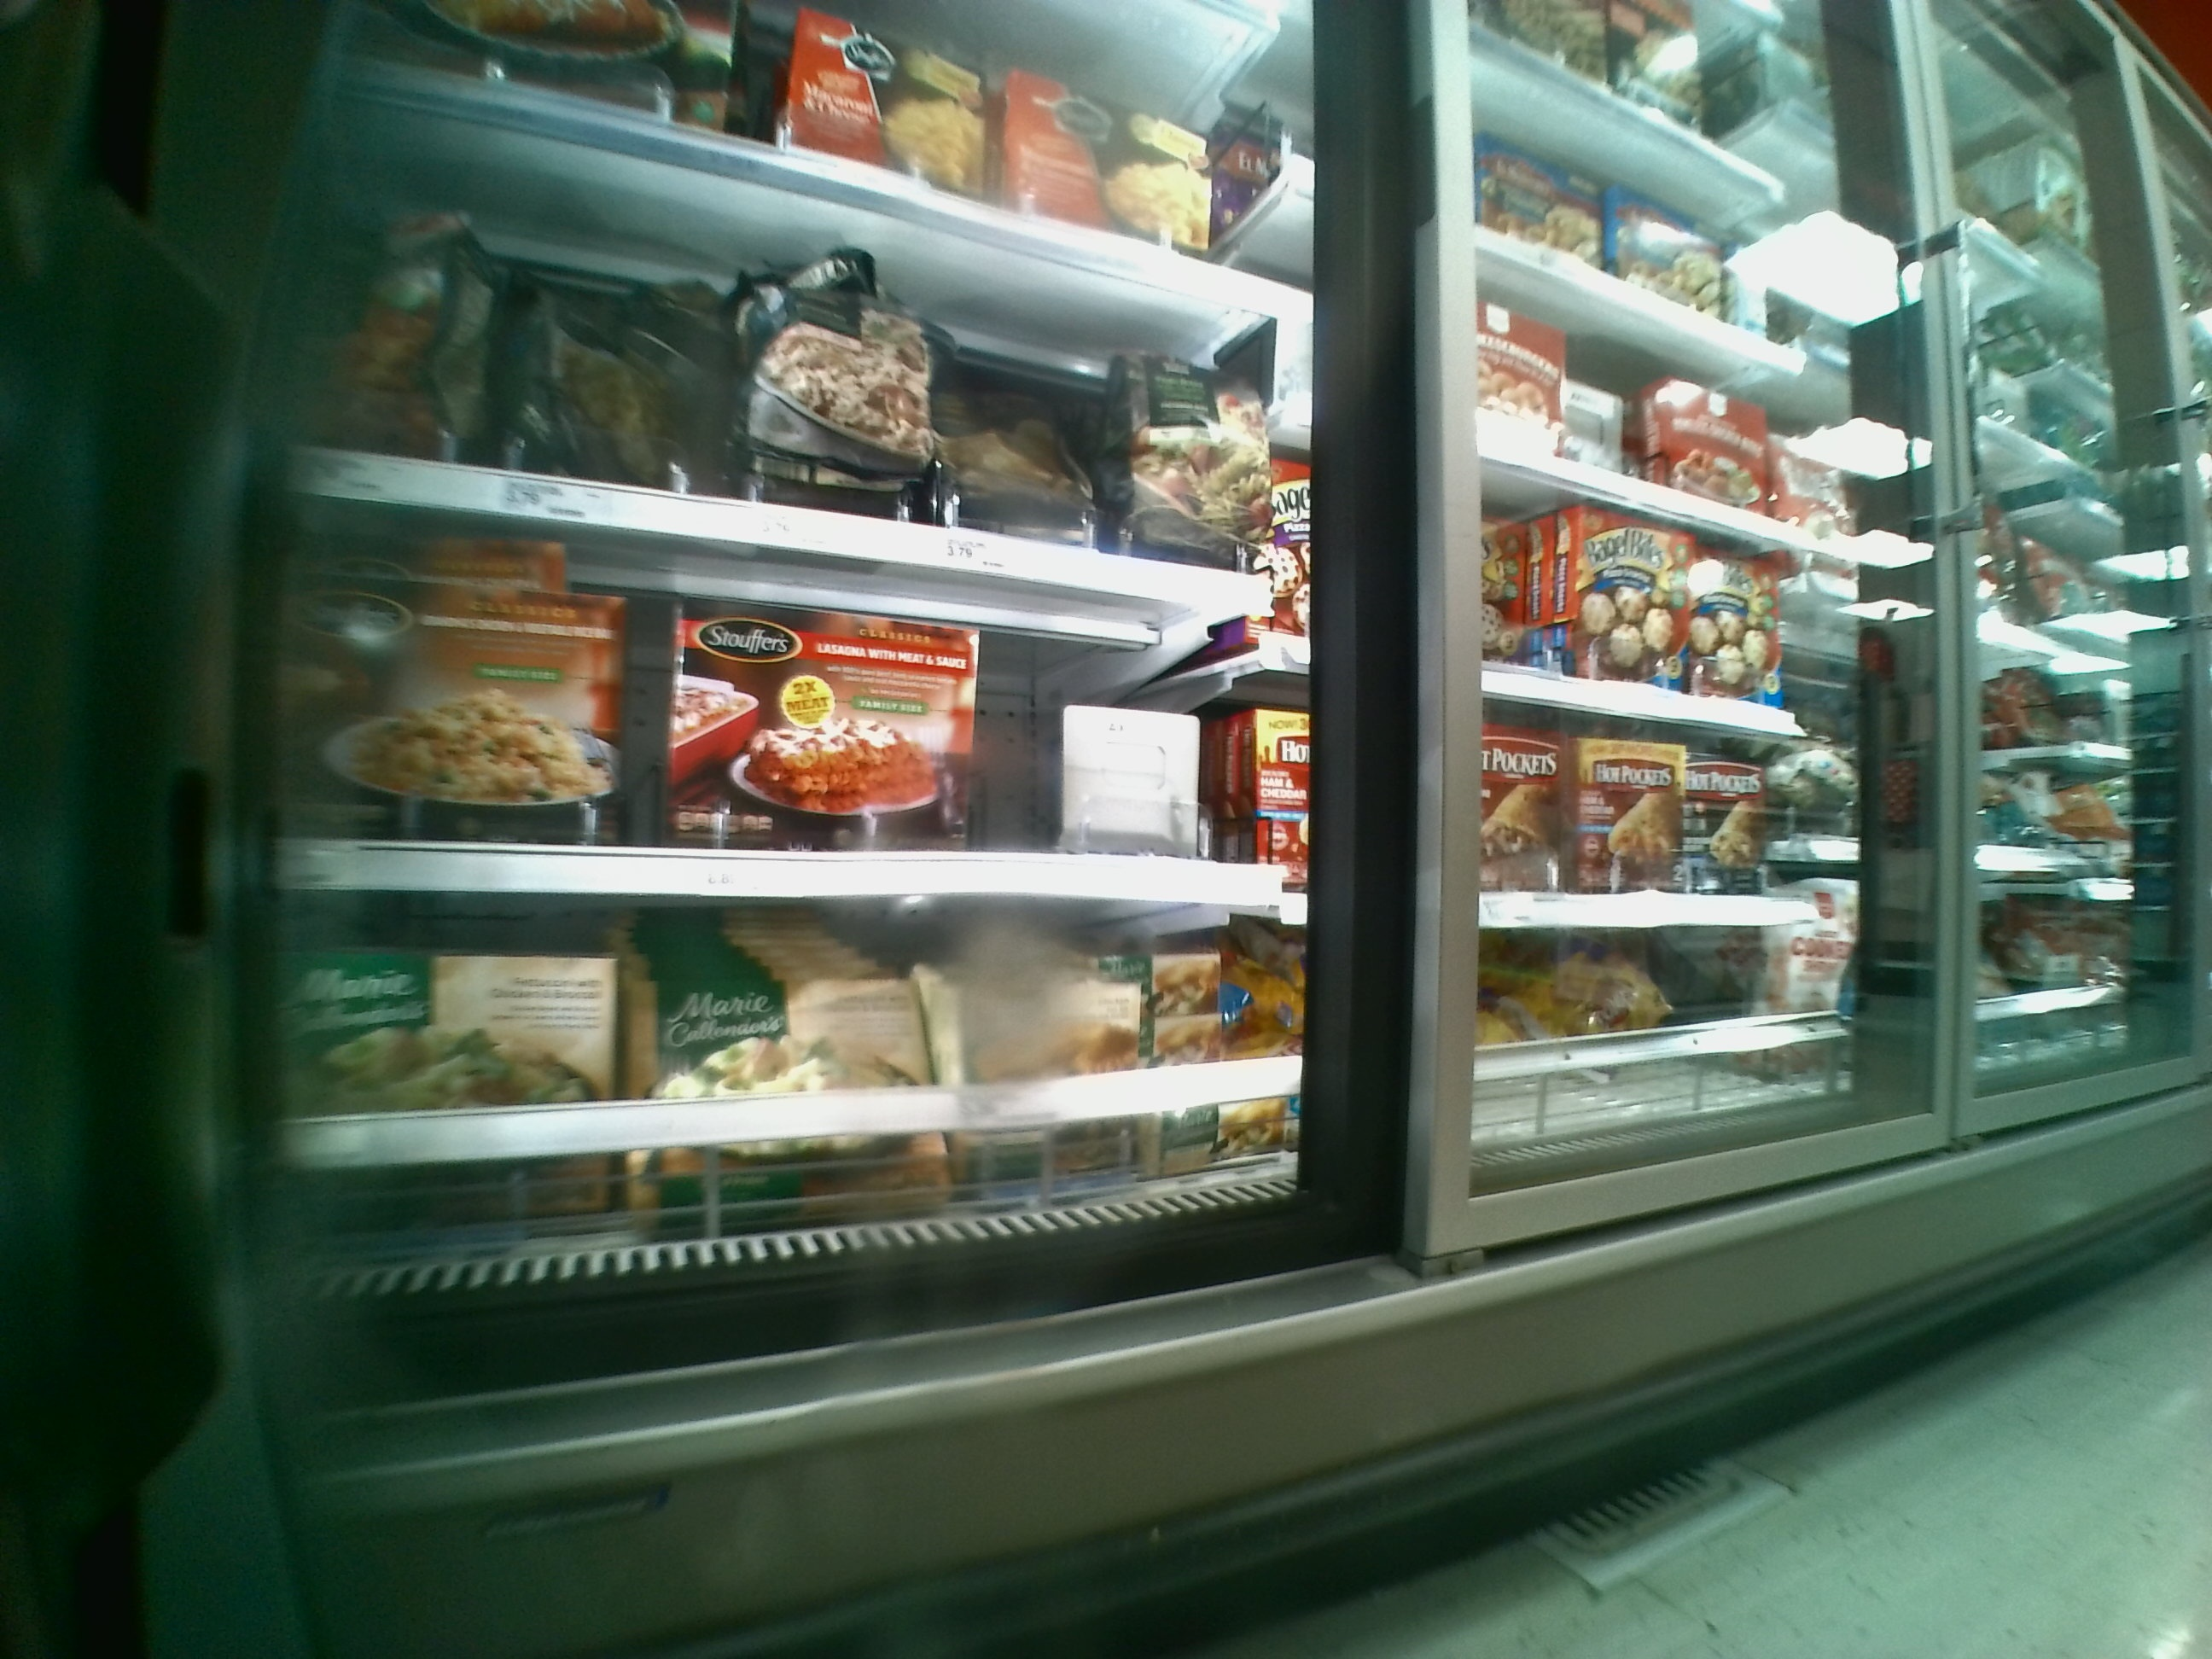shelf: (289, 892, 1296, 1239), (284, 225, 1301, 565), (284, 558, 1285, 903)
